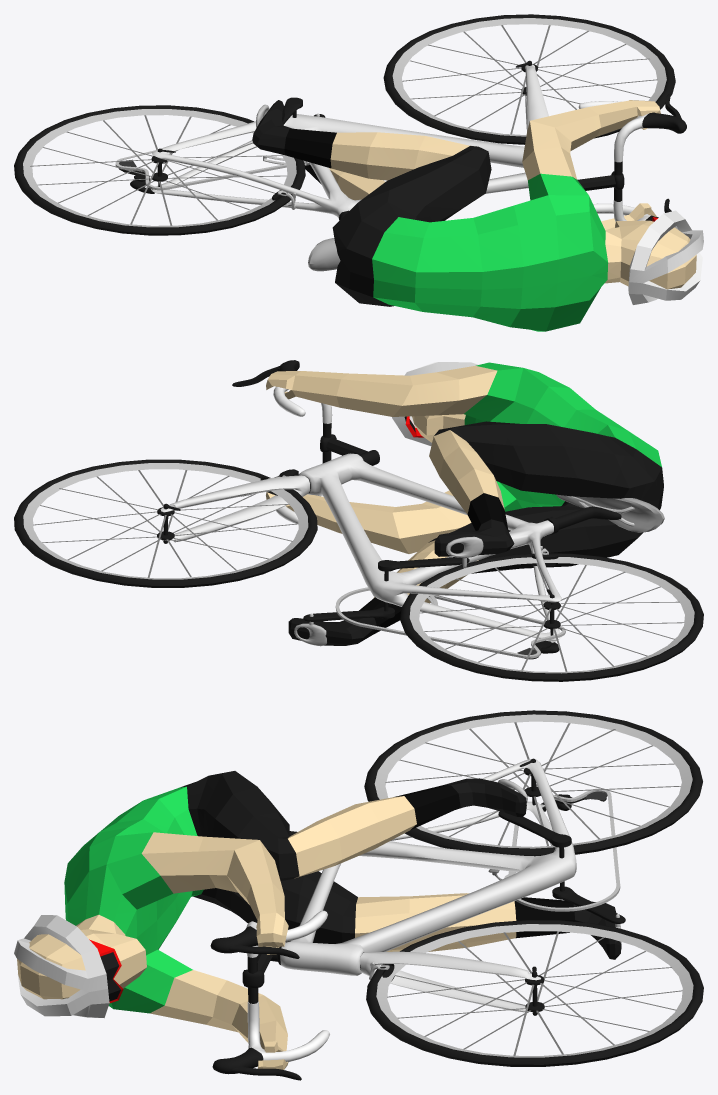
3 views of the same model, one above another, from view 1: azimuth 30°, elevation 25°; view 2: azimuth 150°, elevation 25°; view 3: azimuth 270°, elevation 25° (orthographic). The views are drawn at different scales.
Parts seen in each view (by area): view 1: Mesh_43_Mesh_43.001, Mesh_42_Mesh_42.001, Mesh_45_Mesh_45.001, Mesh_32_Mesh_32.001, Mesh_2_Mesh_2.001, Mesh_39_Mesh_39.001, Mesh_6_Mesh_6.001, Mesh_7_Mesh_7.001, Mesh_1_Mesh_1.001, Mesh_0_Mesh_0.001, Mesh_8_Mesh_8.001, Mesh_44_Mesh_44.001 (+5 smaller); view 2: Mesh_45_Mesh_45.001, Mesh_42_Mesh_42.001, Mesh_32_Mesh_32.001, Mesh_43_Mesh_43.001, Mesh_6_Mesh_6.001, Mesh_2_Mesh_2.001, Mesh_7_Mesh_7.001, Mesh_1_Mesh_1.001, Mesh_15_Mesh_15.001, Mesh_8_Mesh_8.001, Mesh_0_Mesh_0.001, Mesh_35_Mesh_35.001 (+9 smaller); view 3: Mesh_42_Mesh_42.001, Mesh_43_Mesh_43.001, Mesh_32_Mesh_32.001, Mesh_45_Mesh_45.001, Mesh_6_Mesh_6.001, Mesh_39_Mesh_39.001, Mesh_2_Mesh_2.001, Mesh_7_Mesh_7.001, Mesh_1_Mesh_1.001, Mesh_15_Mesh_15.001, Mesh_8_Mesh_8.001, Mesh_44_Mesh_44.001 (+5 smaller).
Boxes of the visible parts, x1,y1,x2,y2 form: Mesh_43_Mesh_43.001: [372, 173, 608, 331]; Mesh_42_Mesh_42.001: [329, 100, 696, 289]; Mesh_45_Mesh_45.001: [252, 100, 491, 306]; Mesh_32_Mesh_32.001: [152, 114, 528, 218]; Mesh_2_Mesh_2.001: [14, 105, 305, 235]; Mesh_39_Mesh_39.001: [628, 210, 703, 304]; Mesh_6_Mesh_6.001: [383, 14, 675, 144]; Mesh_7_Mesh_7.001: [392, 18, 666, 136]; Mesh_1_Mesh_1.001: [23, 109, 296, 227]; Mesh_0_Mesh_0.001: [30, 115, 286, 225]; Mesh_8_Mesh_8.001: [402, 25, 657, 134]; Mesh_44_Mesh_44.001: [284, 128, 336, 184]; Mesh_45_Mesh_45.001: [288, 421, 663, 645]; Mesh_42_Mesh_42.001: [266, 365, 504, 603]; Mesh_32_Mesh_32.001: [298, 453, 561, 640]; Mesh_43_Mesh_43.001: [464, 362, 661, 511]; Mesh_6_Mesh_6.001: [14, 459, 317, 587]; Mesh_2_Mesh_2.001: [400, 553, 703, 681]; Mesh_7_Mesh_7.001: [23, 463, 308, 579]; Mesh_1_Mesh_1.001: [409, 557, 694, 673]; Mesh_15_Mesh_15.001: [160, 475, 309, 542]; Mesh_8_Mesh_8.001: [33, 470, 297, 577]; Mesh_0_Mesh_0.001: [420, 563, 684, 671]; Mesh_35_Mesh_35.001: [556, 494, 664, 532]; Mesh_42_Mesh_42.001: [17, 796, 516, 1069]; Mesh_43_Mesh_43.001: [64, 786, 203, 1013]; Mesh_32_Mesh_32.001: [280, 759, 576, 975]; Mesh_45_Mesh_45.001: [181, 771, 621, 959]; Mesh_6_Mesh_6.001: [366, 920, 703, 1066]; Mesh_39_Mesh_39.001: [14, 915, 109, 1018]; Mesh_2_Mesh_2.001: [364, 710, 702, 856]; Mesh_7_Mesh_7.001: [376, 924, 693, 1057]; Mesh_1_Mesh_1.001: [374, 714, 692, 848]; Mesh_15_Mesh_15.001: [360, 951, 540, 1012]; Mesh_8_Mesh_8.001: [387, 931, 682, 1056]; Mesh_44_Mesh_44.001: [395, 785, 575, 938].
Size of the model in its own units: 2.3 by 0.5681 by 1.91.
